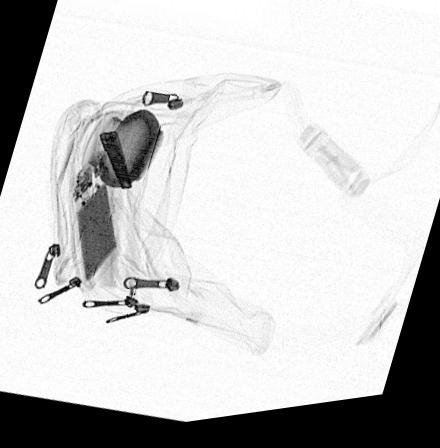Powerbank: (66, 152, 122, 292)
